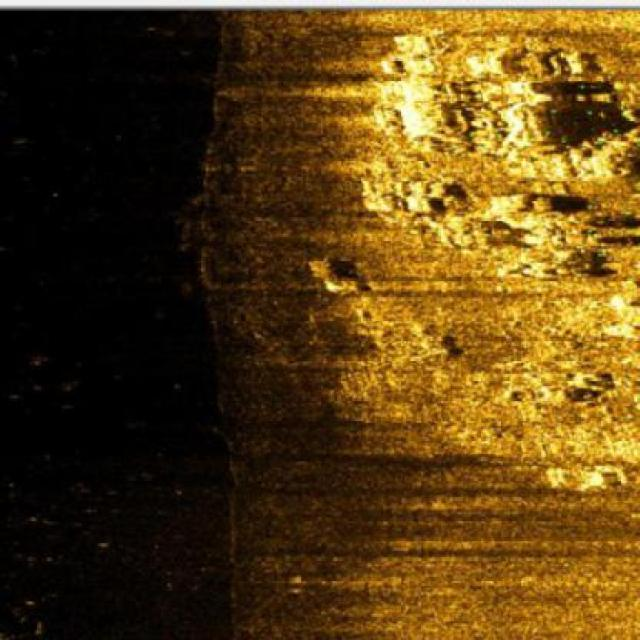bedrock group: (307, 29, 639, 489)
